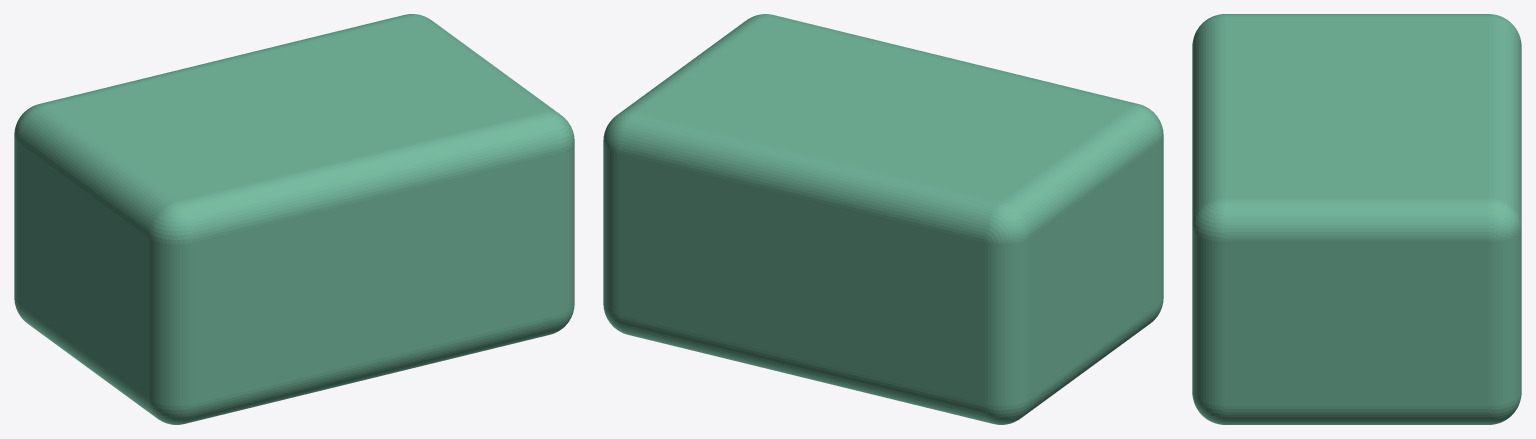
Rendered from rounded-block.glb.
3 renders of one model, left to right at view 1: azimuth 30°, elevation 25°; view 2: azimuth 150°, elevation 25°; view 3: azimuth 270°, elevation 25°, orthographic.
Parts seen in each view (by area): view 1: Rounded block · R4; view 2: Rounded block · R4; view 3: Rounded block · R4.
Part boxes in pixels (x1=…): Rounded block · R4: x1=14, y1=14, x2=574, y2=424; Rounded block · R4: x1=603, y1=14, x2=1163, y2=424; Rounded block · R4: x1=1192, y1=14, x2=1521, y2=424.
Bounding box in the file's own units: 0.06 × 0.03 × 0.04.
